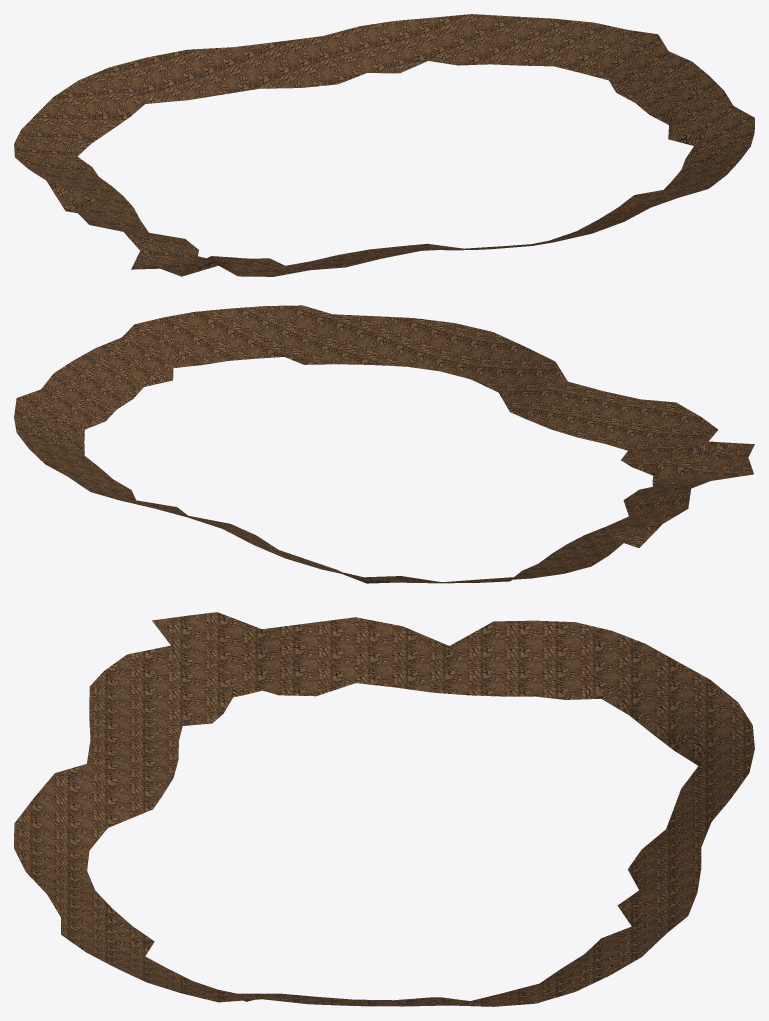
Rendered from dirt.dae.
The picture shows the model from 3 angles, top to bottom: view 1: azimuth 30°, elevation 25°; view 2: azimuth 150°, elevation 25°; view 3: azimuth 270°, elevation 25°; orthographic projection. The views are drawn at different scales.
Parts seen in each view (by area): view 1: dirt; view 2: dirt; view 3: dirt.
Boxes of the visible parts, <box> form: dirt: <box>14,14,754,276</box>; dirt: <box>14,305,754,583</box>; dirt: <box>14,612,754,1006</box>.
Bounding box in the file's own units: 158 × 125 × 7.23.
Materials: 1 (1 with a texture image).
